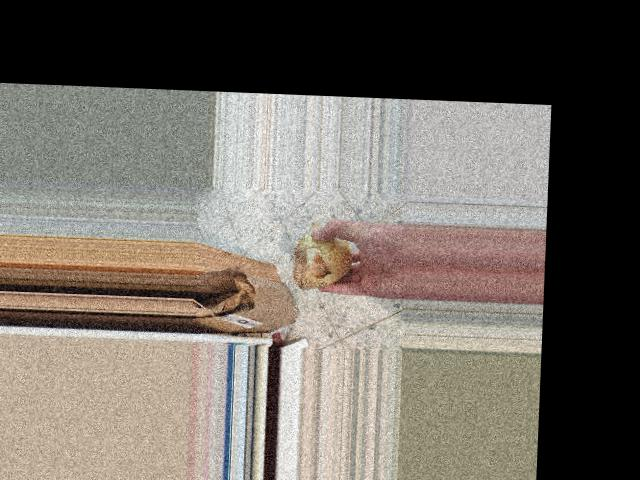onion: (289, 224, 356, 292)
